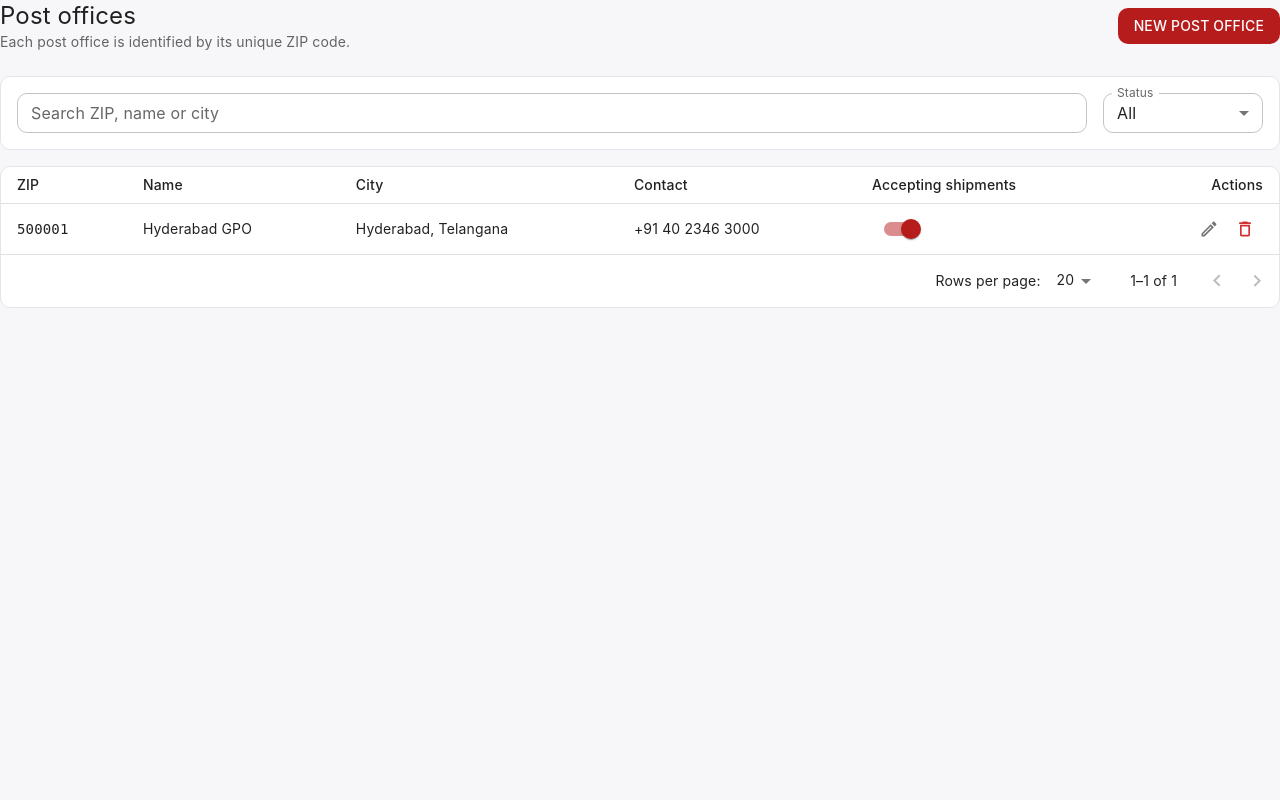
Test: PostOfficeListPage › lists offices and explains a delete refused for active shipments
Check: the text "Hyderabad GPO" is shown, box [127,204,340,254]
Click the button named "Delete 500001". click: (1245, 229)
box: [1227,211,1263,247]
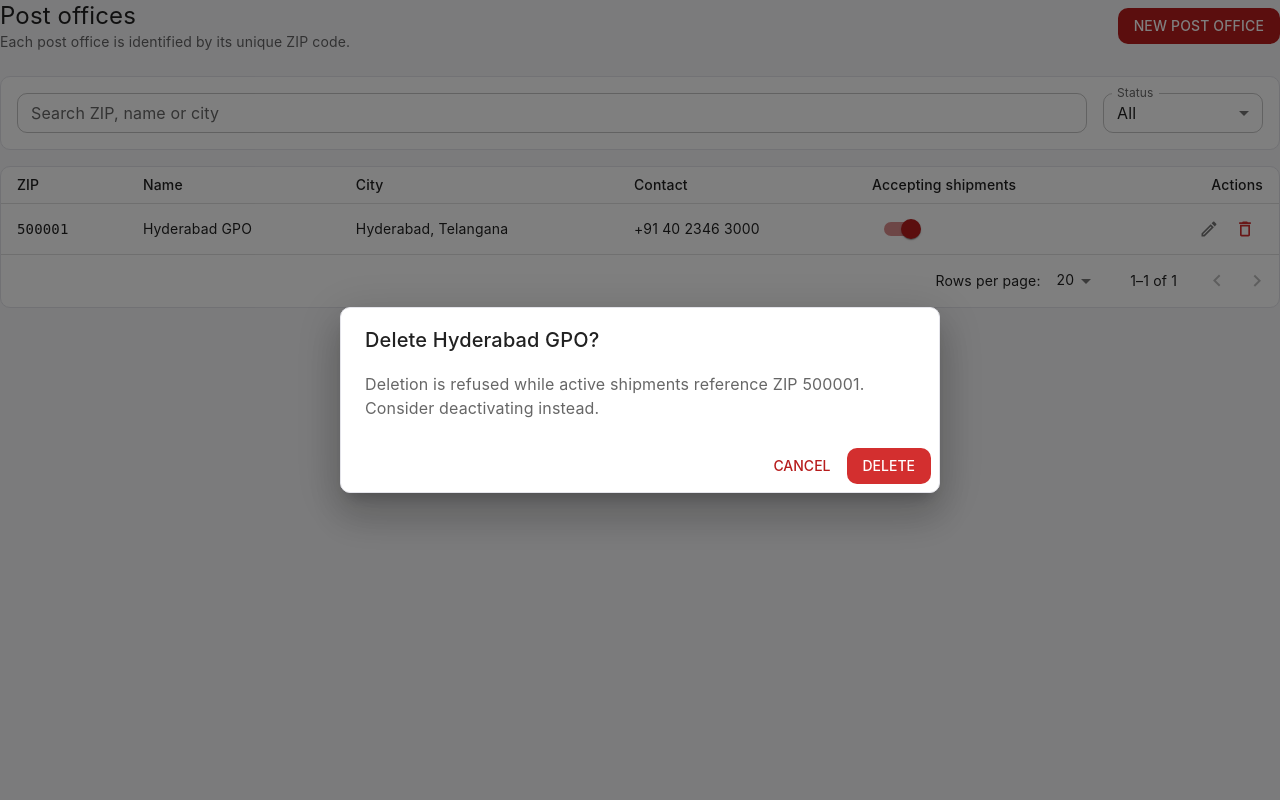
Click the button "Delete". click: (889, 466)
box: [846,448,931,484]
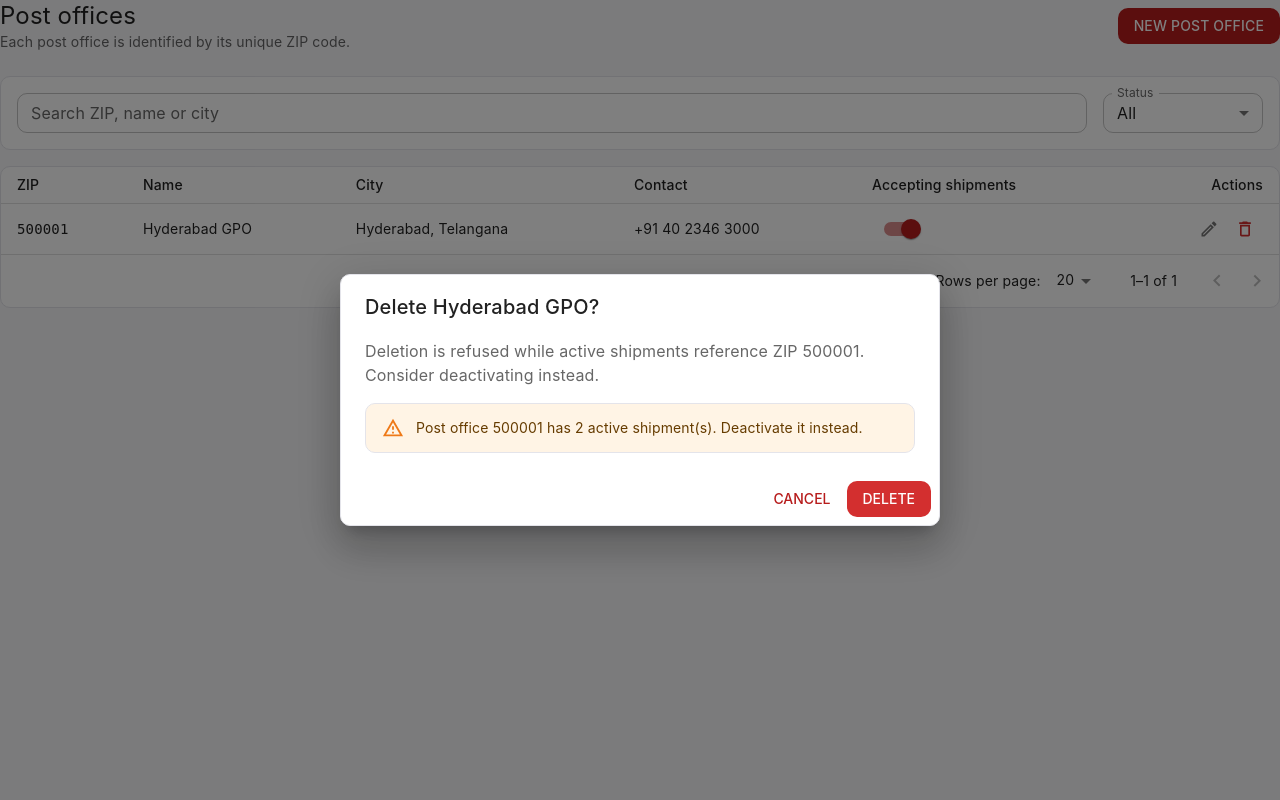
Check: the text "has 2 active shipment" is shown, box [416,419,863,436]
